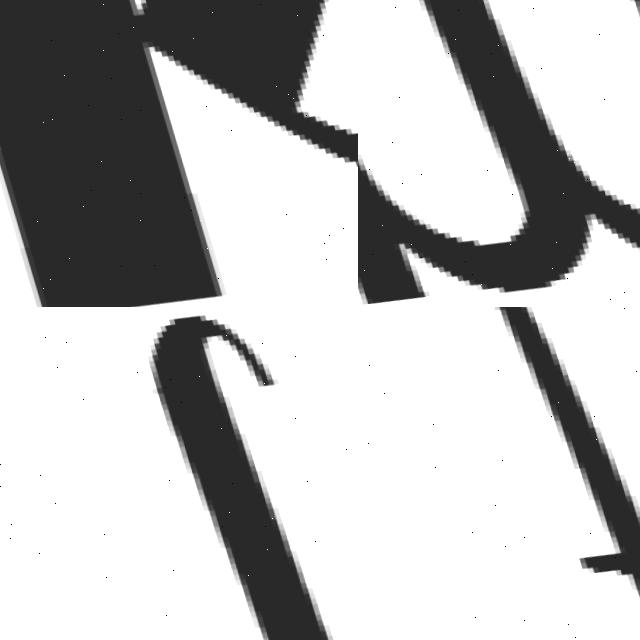F: (496, 307, 640, 604)
K: (0, 0, 358, 307)
L: (77, 307, 358, 640)
M: (358, 0, 640, 307)
